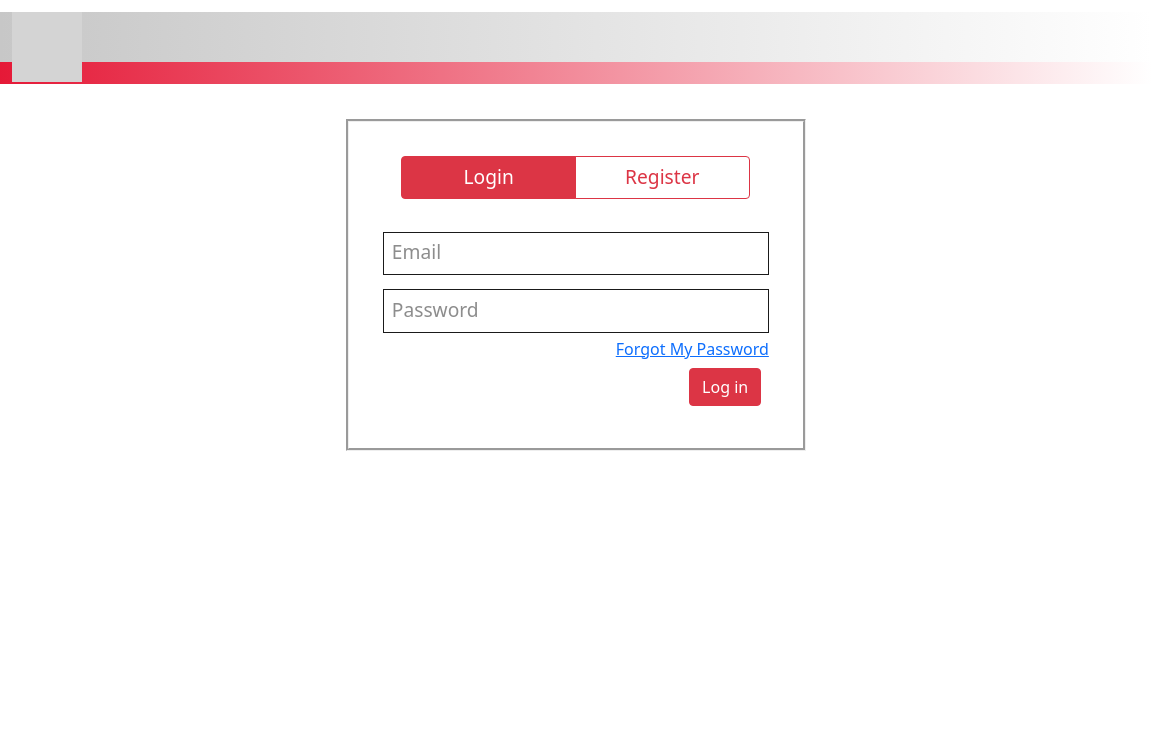
Test case: login checks › checks pasword
This screenshot has width=1152, height=732.
In the field with placeholder "Email": (576, 253) [383,232,769,275], type "123@a.bc"
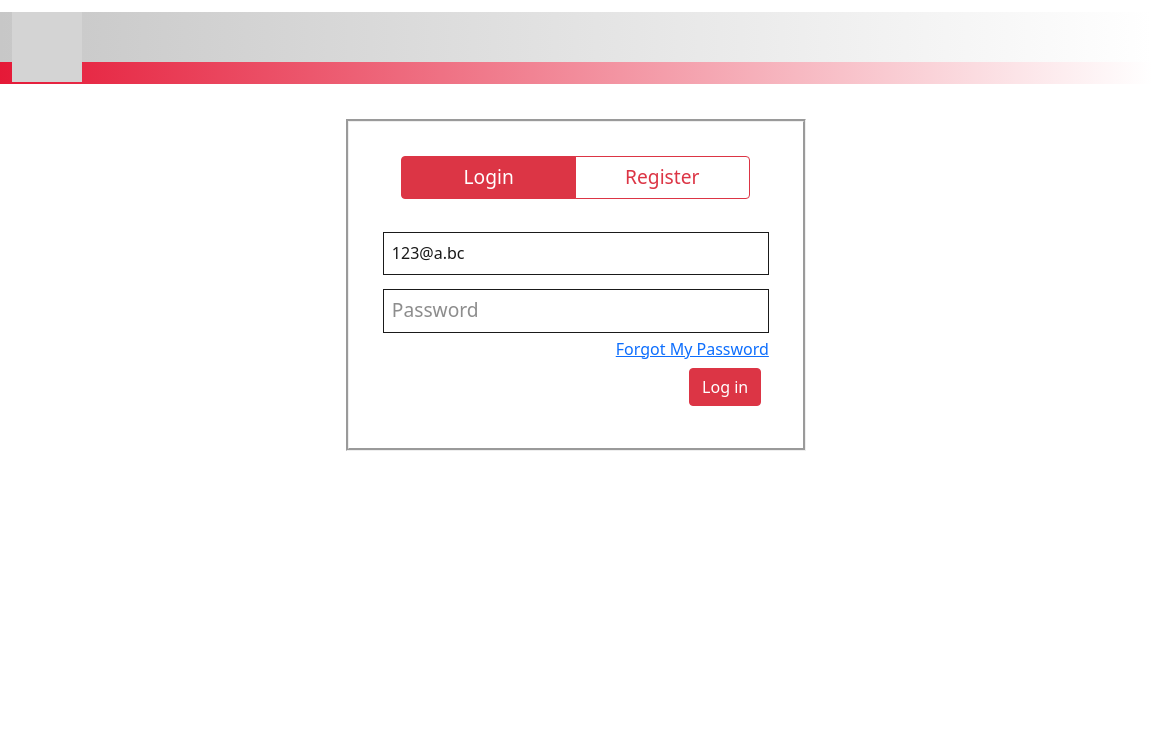
Click the button "Log in": click(725, 387) [689,368,761,406]
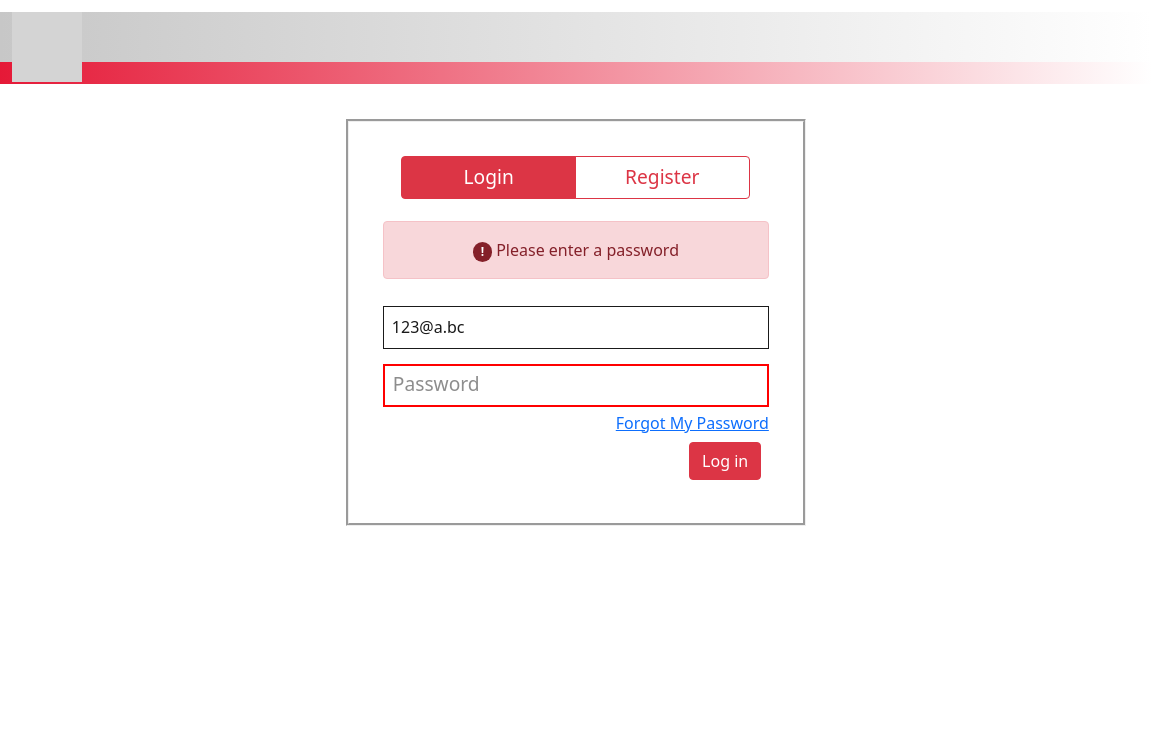
Expected: the text "Please enter a password" is shown, [492,239,679,261]
